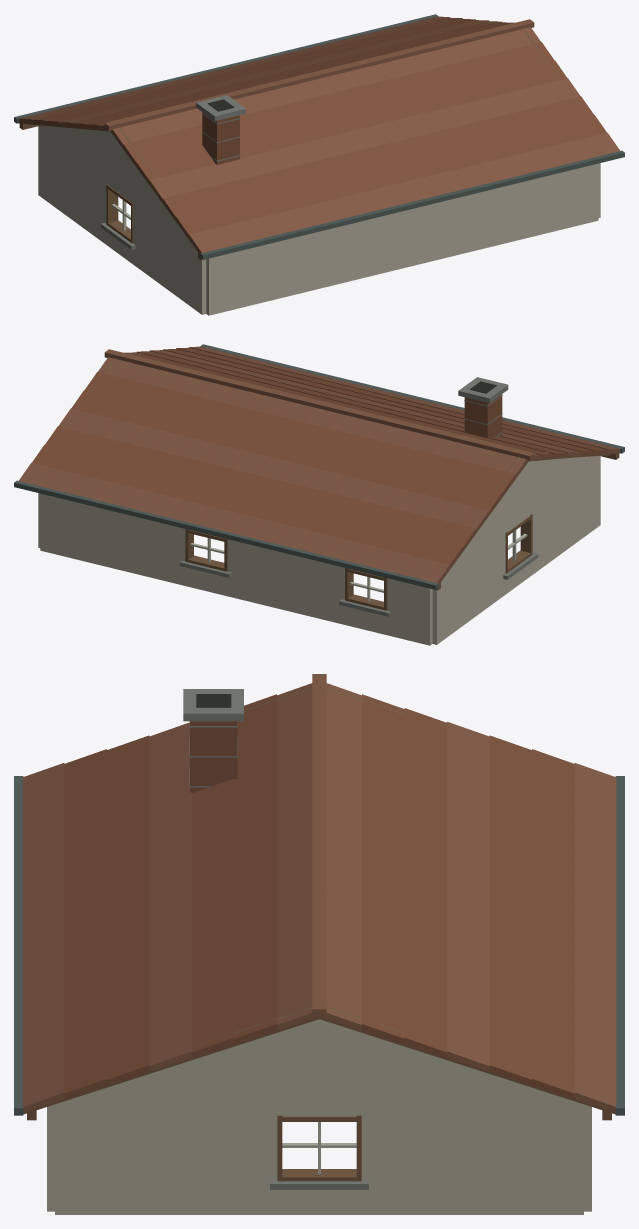
File: home_roof.glb
3 views of the same model, one above another, from view 1: azimuth 30°, elevation 25°; view 2: azimuth 150°, elevation 25°; view 3: azimuth 270°, elevation 25° (orthographic). The views are drawn at different scales.
Visible parts, largest first — view 1: home_roof; view 2: home_roof; view 3: home_roof.
Part boxes in pixels (x1=…): home_roof: x1=14, y1=14, x2=624, y2=315; home_roof: x1=14, y1=344, x2=624, y2=645; home_roof: x1=14, y1=674, x2=624, y2=1214.
Size of the model in its own units: 12 by 4.24 by 9.24.
